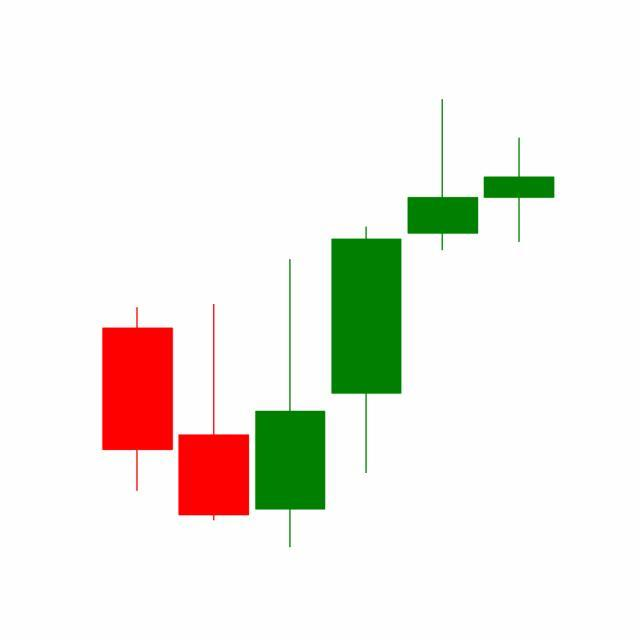Advance Block: (326, 99, 555, 478)
